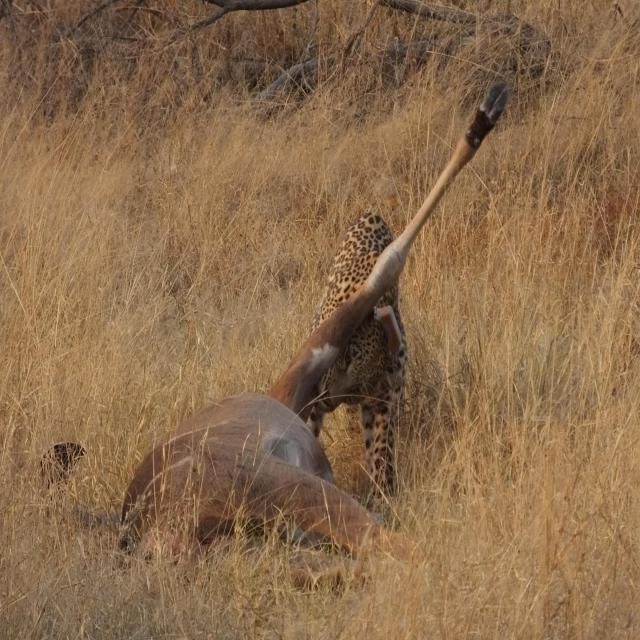Leopard: (303, 218, 408, 546)
